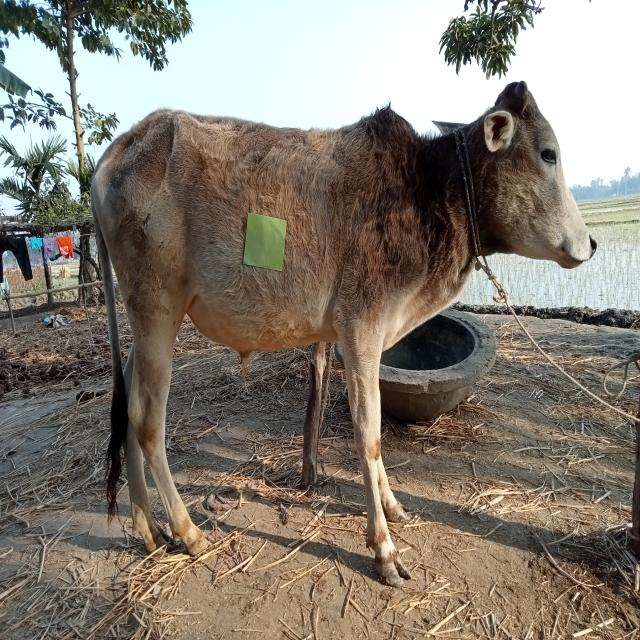badan_sapi: (90, 104, 392, 355)
sapi: (79, 73, 606, 589)
